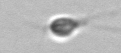plankton: (30, 9, 121, 42)
